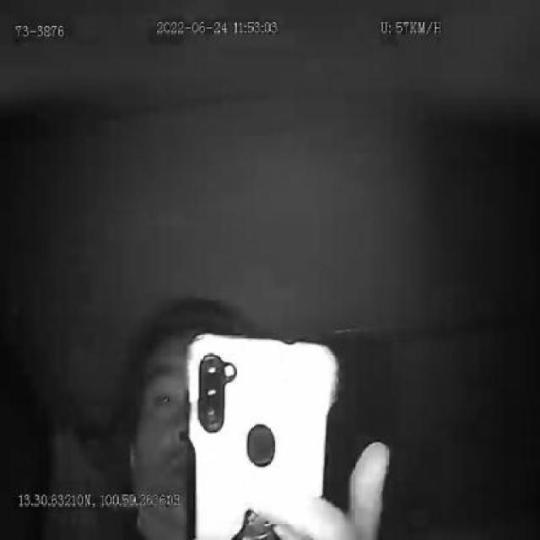phone: (181, 324, 344, 540)
